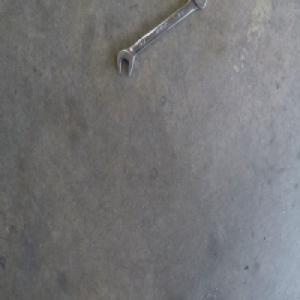Wrench: (117, 0, 207, 76)
